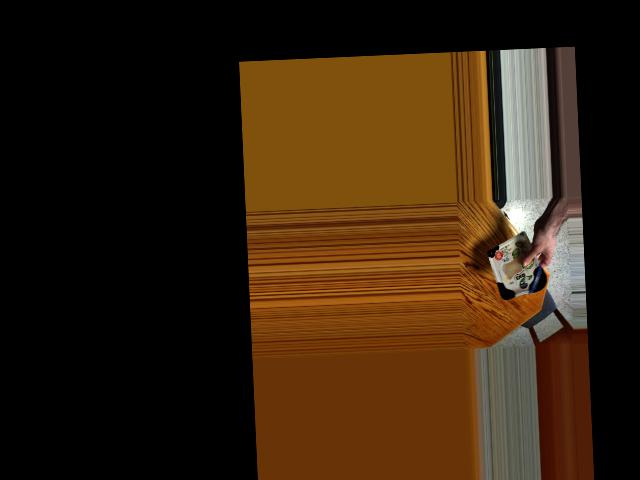cheese: (488, 240, 549, 301)
